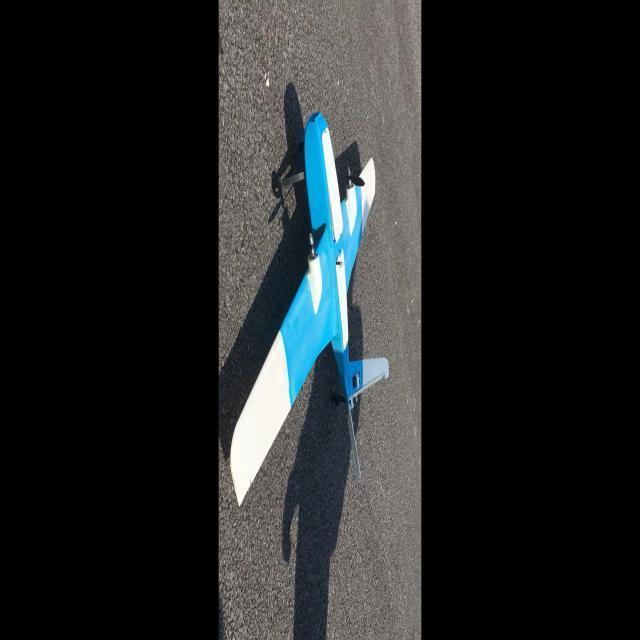iha: (226, 94, 400, 521)
